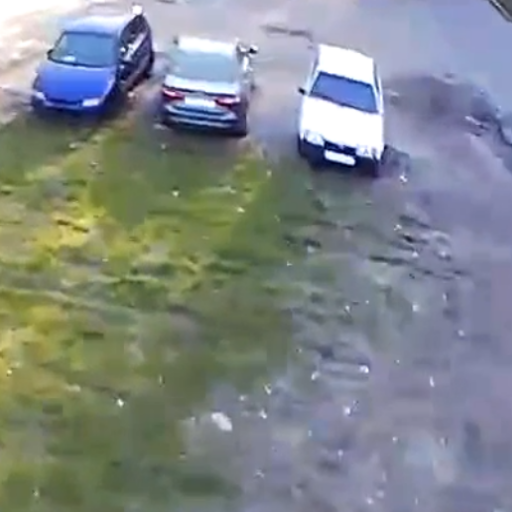Car: (31, 4, 150, 122), (296, 39, 383, 169), (166, 33, 251, 134)
